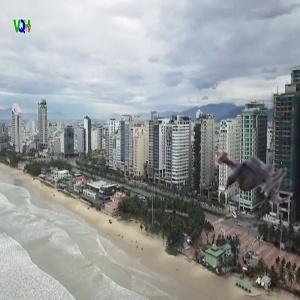drone: (196, 129, 299, 232)
